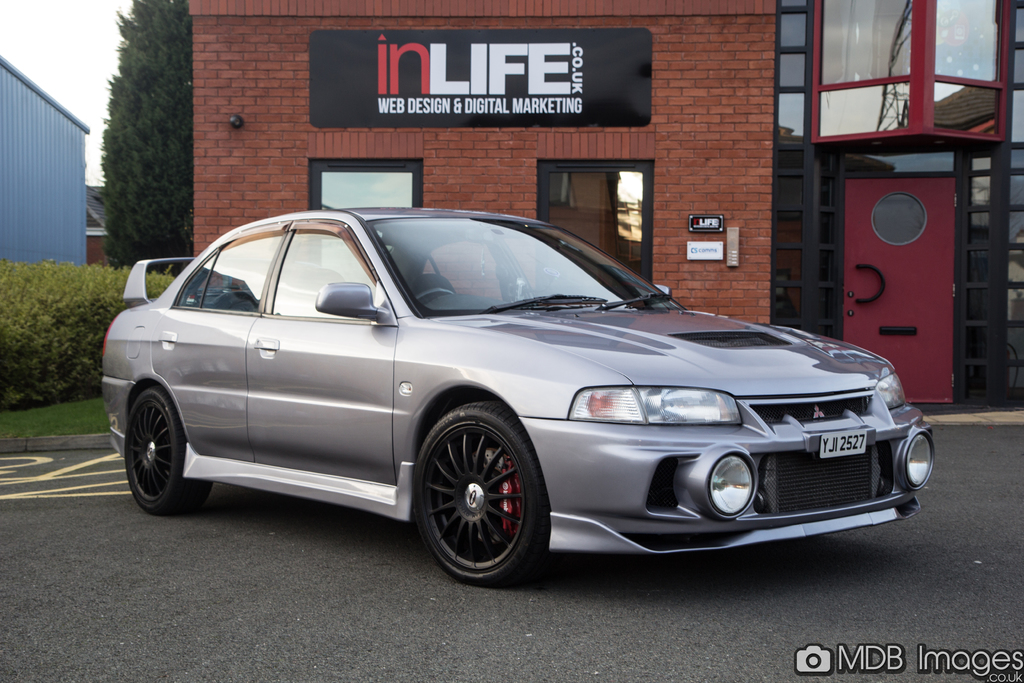Car: (99, 208, 899, 582)
